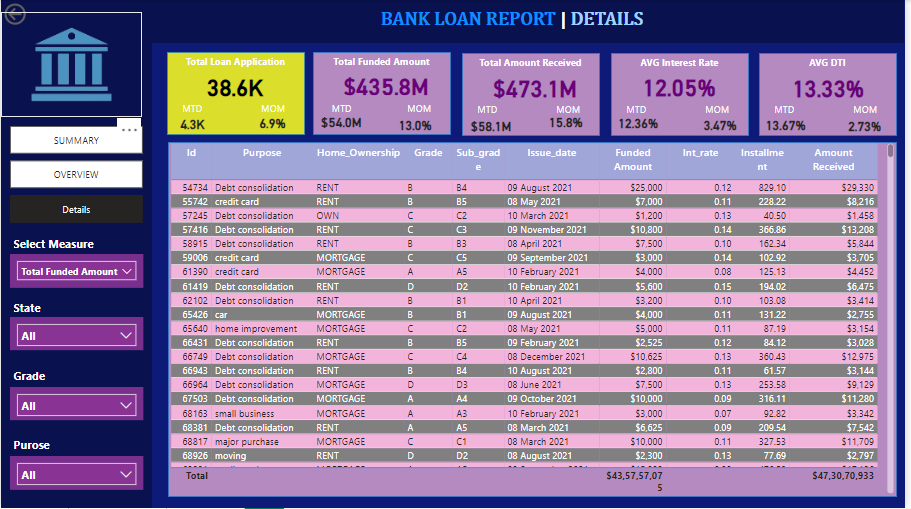

What the dashboard file says about the page in this screenshot:
{"tool":"powerbi","page":{"name":"Details","canvas":[1280,720],"ordinal":2},"visuals":[{"type":"shape","box":[0,0,214,720],"z":0},{"type":"shape","box":[441.9,74.3,195.6,117.6],"z":0,"group":"g2"},{"type":"shape","box":[0,0,1279.8,60.9],"z":1000},{"type":"card","fields":{"Values":["bank_loan_data.Total Funded Amount"]},"box":[470,102.2,153.1,38.3],"z":1000,"group":"g2"},{"type":"textbox","box":[510,7.1,427.1,44.3],"z":2000},{"type":"shape","box":[236.1,74.3,195.6,117.6],"z":2000,"group":"g7"},{"type":"textbox","box":[457.5,74.3,163,31.2],"z":2000,"group":"g2"},{"type":"shape","box":[653.1,75,195.6,117.6],"z":2000,"group":"g4"},{"type":"shape","box":[863.9,75,195.6,117.6],"z":2000,"group":"g5"},{"type":"shape","box":[1074.7,75,195.6,117.6],"z":2000,"group":"g6"},{"type":"group","id":"g1","title":"Group 1","box":[235.7,74.3,195.7,127.1],"z":3000},{"type":"textbox","box":[562.6,140.8,60.5,31.7],"z":3000,"group":"g2"},{"type":"group","id":"g2","title":"Group 2","box":[439.7,74.3,197.8,124.3],"z":4000},{"type":"card","fields":{"Values":["bank_loan_data.Total Amount Received"]},"box":[688.6,102,136.1,42.5],"z":4000,"group":"g4"},{"type":"card","fields":{"Values":["bank_loan_data.Avg Interest Rate"]},"box":[895.4,102,130.4,41.1],"z":4000,"group":"g5"},{"type":"card","fields":{"Values":["bank_loan_data.Avg DTI"]},"box":[1110.7,102,124.7,42.5],"z":4000,"group":"g6"},{"type":"card","fields":{"Values":["bank_loan_data.Total Loan Application"]},"box":[285.3,102.7,93.5,39.7],"z":4000,"group":"g7"},{"type":"group","id":"g3","title":"Group 4","box":[439.7,141,85.7,48.6],"z":4000,"group":"g2"},{"type":"textbox","box":[251.7,74.3,163,31.2],"z":5000,"group":"g7"},{"type":"group","id":"g4","title":"Group 2","box":[653.1,75,195.6,127.6],"z":5000},{"type":"textbox","box":[668.7,75,163,31.2],"z":5000,"group":"g4"},{"type":"textbox","box":[879.5,75,163,31.2],"z":5000,"group":"g5"},{"type":"textbox","box":[1090.3,75,163,31.2],"z":5000,"group":"g6"},{"type":"card","fields":{"Values":["bank_loan_data.MoM Funded Amount"]},"box":[555,157.5,65.2,41.1],"z":5000,"group":"g2"},{"type":"group","id":"g5","title":"Group 2","box":[862.8,75,196.7,127.6],"z":6000},{"type":"card","fields":{"Values":["bank_loan_data.MTD Avg Interest Rate"]},"box":[862.8,148.7,79.4,53.9],"z":6000,"group":"g5"},{"type":"card","fields":{"Values":["bank_loan_data.MTD Loan Application"]},"box":[235.7,152.3,72.1,49],"z":6000,"group":"g7"},{"type":"card","fields":{"Values":["bank_loan_data.MTD Amount Received"]},"box":[658.7,157.2,70.9,45.4],"z":6000,"group":"g4"},{"type":"card","fields":{"Values":["bank_loan_data.MTD Avg DTI"]},"box":[1075.5,157.2,72.3,42.5],"z":6000,"group":"g6"},{"type":"card","fields":{"Values":["bank_loan_data.MTD Funded Amount"]},"box":[439.7,159.6,85.7,30],"z":6000,"group":"g3"},{"type":"group","id":"g6","title":"Group 2","box":[1074.7,75,195.6,124.7],"z":7000},{"type":"textbox","box":[240,140.8,63.4,36],"z":7000,"group":"g7"},{"type":"textbox","box":[451.6,141,64.3,28.6],"z":7000,"group":"g3"},{"type":"textbox","box":[657,141.5,63.4,36],"z":7000,"group":"g4"},{"type":"textbox","box":[867.8,141.5,63.4,36],"z":7000,"group":"g5"},{"type":"textbox","box":[1078.6,141.5,63.4,36],"z":7000,"group":"g6"},{"type":"textbox","box":[356.8,140.8,60.5,31.7],"z":8000,"group":"g7"},{"type":"textbox","box":[773.8,141.5,60.5,31.7],"z":8000,"group":"g4"},{"type":"textbox","box":[984.6,141.5,60.5,31.7],"z":8000,"group":"g5"},{"type":"textbox","box":[1195.4,141.5,60.5,31.7],"z":8000,"group":"g6"},{"type":"shape","box":[236.7,201.3,1033.2,503.1],"z":8000},{"type":"group","id":"g7","title":"Group 3","box":[235.7,74.3,196,127],"z":8001,"group":"g8"},{"type":"actionButton","box":[0,0,100,40],"z":9000},{"type":"card","fields":{"Values":["bank_loan_data.MoM Loan Application"]},"box":[356.8,153.8,57.7,44.7],"z":9000,"group":"g7"},{"type":"card","fields":{"Values":["bank_loan_data.MoM Avg Interest Rate"]},"box":[985,157.2,68,42.5],"z":9000,"group":"g5"},{"type":"card","fields":{"Values":["bank_loan_data.MoM Amount Received"]},"box":[766,159.3,67.1,31.4],"z":9000,"group":"g4"},{"type":"card","fields":{"Values":["bank_loan_data.MoM Avg DTI"]},"box":[1195.6,160.1,58.1,38.3],"z":9000,"group":"g6"},{"type":"group","id":"g8","title":"Group 2","box":[235.7,74.3,196,127],"z":9003,"group":"g1"},{"type":"slicer","fields":{"Values":["bank_loan_data.purpose"]},"box":[12.8,646.3,188.5,48.2],"z":10000},{"type":"slicer","fields":{"Values":["bank_loan_data.grade"]},"box":[12.8,548.5,188.5,46.8],"z":11000},{"type":"slicer","fields":{"Values":["bank_loan_data.address_state"]},"box":[12.8,449.3,188.5,46.8],"z":12000},{"type":"textbox","box":[12.8,419.5,59.5,32.6],"z":13000},{"type":"textbox","box":[12.8,515.9,72.3,32.6],"z":14000},{"type":"textbox","box":[12.8,613.7,107.7,32.6],"z":15000},{"type":"textbox","box":[12.8,328.8,158.7,31.2],"z":16000},{"type":"slicer","fields":{"Values":["New Measure.New Measure"]},"box":[12.8,360,188.5,48.2],"z":17000},{"type":"tableEx","fields":{"Values":["bank_loan_data.id","bank_loan_data.purpose","bank_loan_data.home_ownership","bank_loan_data.grade","bank_loan_data.sub_grade","bank_loan_data.issue_date","bank_loan_data.Total Funded Amount","bank_loan_data.int_rate","bank_loan_data.installment","bank_loan_data.Total Amount Received"]},"box":[235.3,198.4,1034.6,506],"z":18000},{"type":"pageNavigator","box":[12.8,178.6,188.5,138.9],"z":19000},{"type":"image","box":[0,17,199.8,148.8],"z":20000}]}

Visuals, with their boxes on the page's 1280x720 design canvas (x1, y1, x2, y2). These are canvas units, not pixel positions in the 911x509 screenshot, which may show the page scaled, cropped or inside an application window:
shape: {"x1": 0, "y1": 0, "x2": 214, "y2": 720}
shape: {"x1": 442, "y1": 74, "x2": 638, "y2": 192}
shape: {"x1": 0, "y1": 0, "x2": 1280, "y2": 61}
card - bank_loan_data.Total Funded Amount: {"x1": 470, "y1": 102, "x2": 623, "y2": 140}
textbox: {"x1": 510, "y1": 7, "x2": 937, "y2": 51}
shape: {"x1": 236, "y1": 74, "x2": 432, "y2": 192}
textbox: {"x1": 458, "y1": 74, "x2": 620, "y2": 106}
shape: {"x1": 653, "y1": 75, "x2": 849, "y2": 193}
shape: {"x1": 864, "y1": 75, "x2": 1060, "y2": 193}
shape: {"x1": 1075, "y1": 75, "x2": 1270, "y2": 193}
"Group 1" group: {"x1": 236, "y1": 74, "x2": 431, "y2": 201}
textbox: {"x1": 563, "y1": 141, "x2": 623, "y2": 172}
"Group 2" group: {"x1": 440, "y1": 74, "x2": 638, "y2": 199}
card - bank_loan_data.Total Amount Received: {"x1": 689, "y1": 102, "x2": 825, "y2": 144}
card - bank_loan_data.Avg Interest Rate: {"x1": 895, "y1": 102, "x2": 1026, "y2": 143}
card - bank_loan_data.Avg DTI: {"x1": 1111, "y1": 102, "x2": 1235, "y2": 144}
card - bank_loan_data.Total Loan Application: {"x1": 285, "y1": 103, "x2": 379, "y2": 142}
"Group 4" group: {"x1": 440, "y1": 141, "x2": 525, "y2": 190}
textbox: {"x1": 252, "y1": 74, "x2": 415, "y2": 106}
"Group 2" group: {"x1": 653, "y1": 75, "x2": 849, "y2": 203}
textbox: {"x1": 669, "y1": 75, "x2": 832, "y2": 106}
textbox: {"x1": 880, "y1": 75, "x2": 1042, "y2": 106}
textbox: {"x1": 1090, "y1": 75, "x2": 1253, "y2": 106}
card - bank_loan_data.MoM Funded Amount: {"x1": 555, "y1": 158, "x2": 620, "y2": 199}
"Group 2" group: {"x1": 863, "y1": 75, "x2": 1060, "y2": 203}
card - bank_loan_data.MTD Avg Interest Rate: {"x1": 863, "y1": 149, "x2": 942, "y2": 203}
card - bank_loan_data.MTD Loan Application: {"x1": 236, "y1": 152, "x2": 308, "y2": 201}
card - bank_loan_data.MTD Amount Received: {"x1": 659, "y1": 157, "x2": 730, "y2": 203}
card - bank_loan_data.MTD Avg DTI: {"x1": 1076, "y1": 157, "x2": 1148, "y2": 200}
card - bank_loan_data.MTD Funded Amount: {"x1": 440, "y1": 160, "x2": 525, "y2": 190}
"Group 2" group: {"x1": 1075, "y1": 75, "x2": 1270, "y2": 200}
textbox: {"x1": 240, "y1": 141, "x2": 303, "y2": 177}
textbox: {"x1": 452, "y1": 141, "x2": 516, "y2": 170}
textbox: {"x1": 657, "y1": 142, "x2": 720, "y2": 178}
textbox: {"x1": 868, "y1": 142, "x2": 931, "y2": 178}
textbox: {"x1": 1079, "y1": 142, "x2": 1142, "y2": 178}
textbox: {"x1": 357, "y1": 141, "x2": 417, "y2": 172}
textbox: {"x1": 774, "y1": 142, "x2": 834, "y2": 173}
textbox: {"x1": 985, "y1": 142, "x2": 1045, "y2": 173}
textbox: {"x1": 1195, "y1": 142, "x2": 1256, "y2": 173}
shape: {"x1": 237, "y1": 201, "x2": 1270, "y2": 704}
"Group 3" group: {"x1": 236, "y1": 74, "x2": 432, "y2": 201}
actionButton: {"x1": 0, "y1": 0, "x2": 100, "y2": 40}
card - bank_loan_data.MoM Loan Application: {"x1": 357, "y1": 154, "x2": 414, "y2": 198}
card - bank_loan_data.MoM Avg Interest Rate: {"x1": 985, "y1": 157, "x2": 1053, "y2": 200}
card - bank_loan_data.MoM Amount Received: {"x1": 766, "y1": 159, "x2": 833, "y2": 191}
card - bank_loan_data.MoM Avg DTI: {"x1": 1196, "y1": 160, "x2": 1254, "y2": 198}
"Group 2" group: {"x1": 236, "y1": 74, "x2": 432, "y2": 201}
slicer - bank_loan_data.purpose: {"x1": 13, "y1": 646, "x2": 201, "y2": 694}
slicer - bank_loan_data.grade: {"x1": 13, "y1": 548, "x2": 201, "y2": 595}
slicer - bank_loan_data.address_state: {"x1": 13, "y1": 449, "x2": 201, "y2": 496}
textbox: {"x1": 13, "y1": 420, "x2": 72, "y2": 452}
textbox: {"x1": 13, "y1": 516, "x2": 85, "y2": 548}
textbox: {"x1": 13, "y1": 614, "x2": 120, "y2": 646}
textbox: {"x1": 13, "y1": 329, "x2": 172, "y2": 360}
slicer - New Measure.New Measure: {"x1": 13, "y1": 360, "x2": 201, "y2": 408}
tableEx - bank_loan_data.id x bank_loan_data.purpose: {"x1": 235, "y1": 198, "x2": 1270, "y2": 704}
pageNavigator: {"x1": 13, "y1": 179, "x2": 201, "y2": 318}
image: {"x1": 0, "y1": 17, "x2": 200, "y2": 166}
